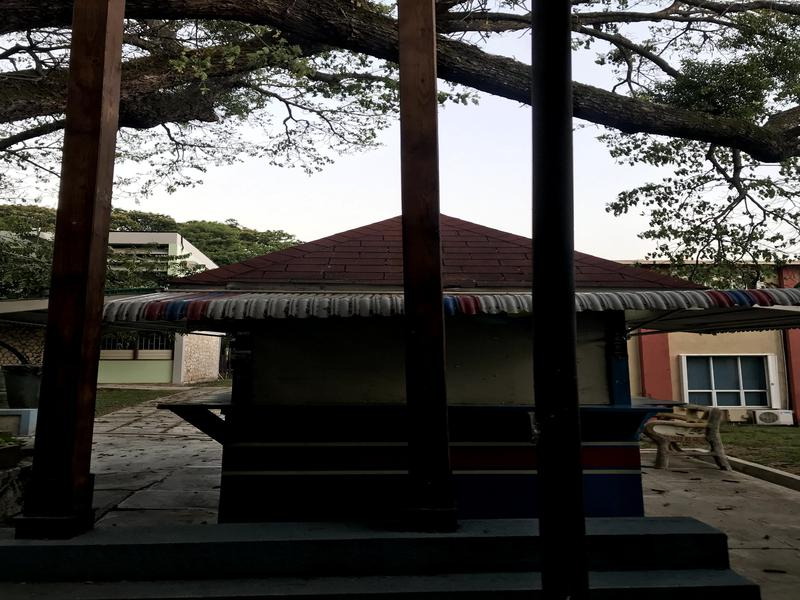18.0051667_-76.74944412_librarystall: (139, 208, 751, 541)
